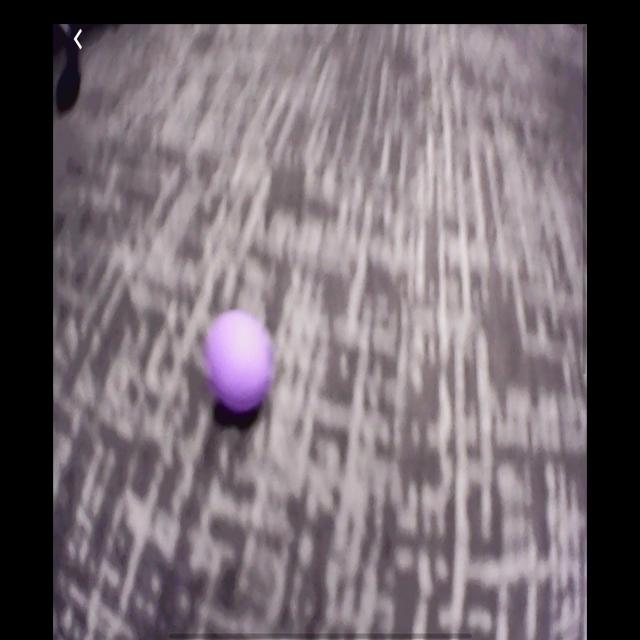ball: (204, 309, 275, 416)
